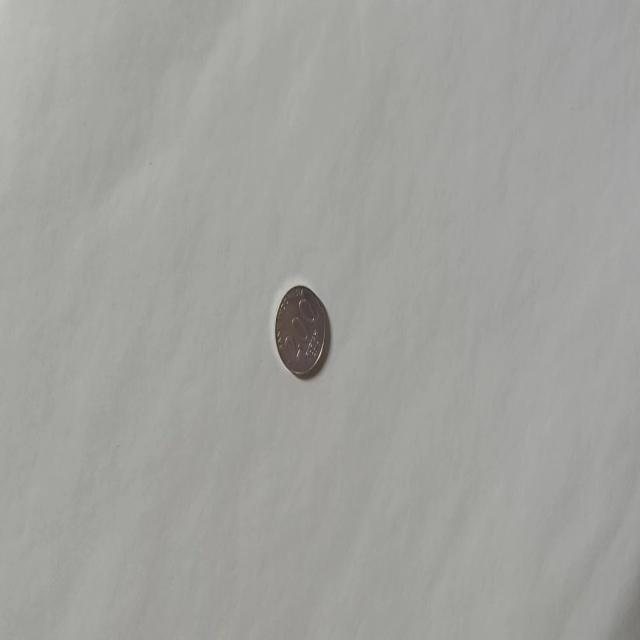dua ratus rupiah: (274, 282, 326, 378)
